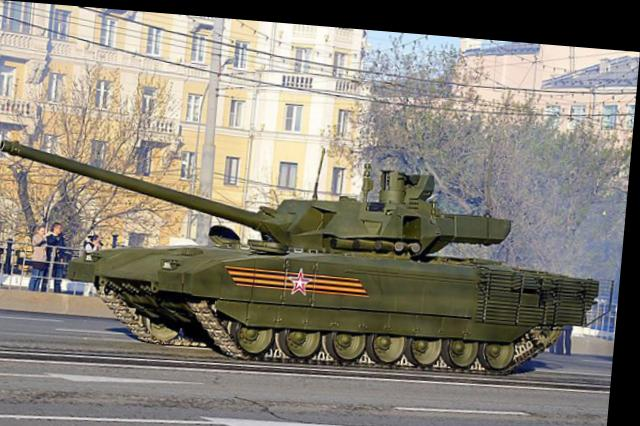tank: (97, 201, 606, 366)
